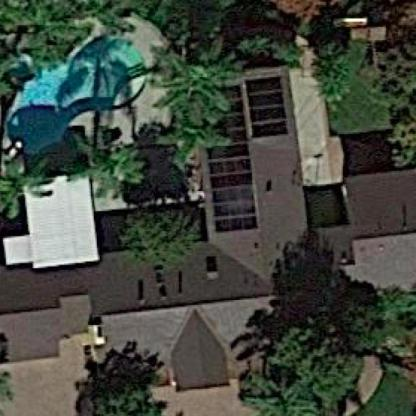solar_panel: (198, 79, 261, 237), (245, 61, 290, 144)
swimming_pool: (1, 4, 164, 167)
